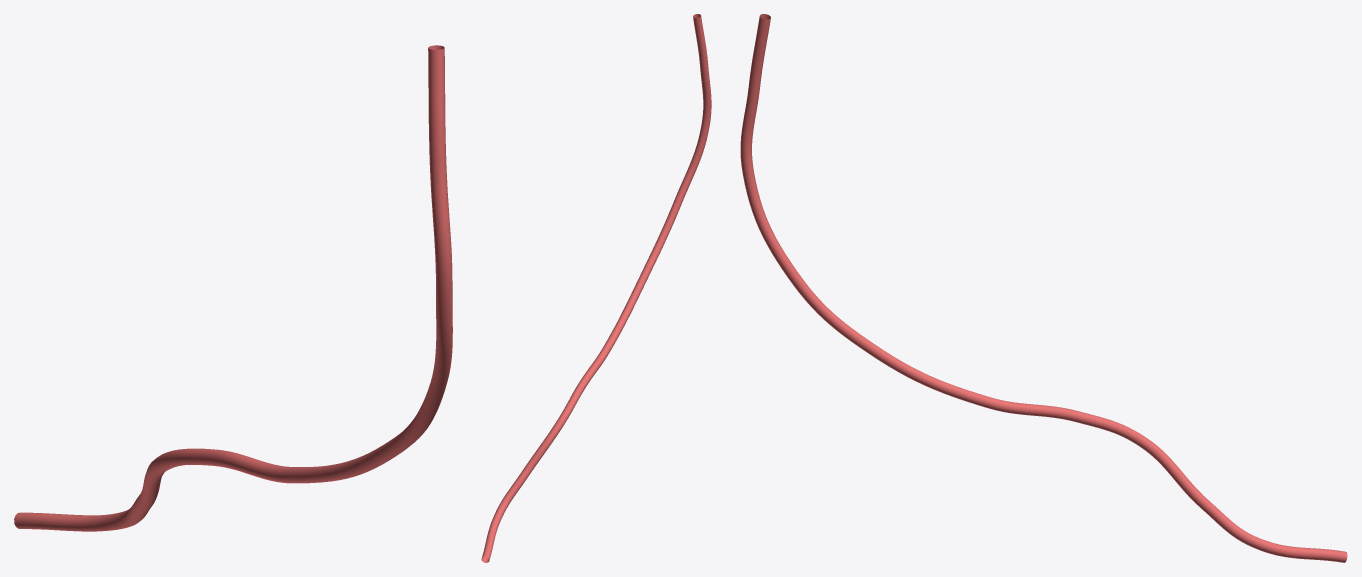
File: Anterior_septal_branches_anterior_ethmoidal_artery_right_001.glb
3 renders of one model, left to right at view 1: azimuth 30°, elevation 25°; view 2: azimuth 150°, elevation 25°; view 3: azimuth 270°, elevation 25°, orthographic. The views are drawn at different scales.
Visible parts, largest first — view 1: Anterior_septal_branches_of_anterior_ethmoidal_artery.r.001_; view 2: Anterior_septal_branches_of_anterior_ethmoidal_artery.r.001_; view 3: Anterior_septal_branches_of_anterior_ethmoidal_artery.r.001_.
Part boxes in pixels (bbox=[...]): Anterior_septal_branches_of_anterior_ethmoidal_artery.r.001_: bbox=[14, 45, 452, 531]; Anterior_septal_branches_of_anterior_ethmoidal_artery.r.001_: bbox=[481, 14, 711, 562]; Anterior_septal_branches_of_anterior_ethmoidal_artery.r.001_: bbox=[740, 14, 1347, 562].
Size of the model in its own units: 0.0017 by 0.021 by 0.0211.
